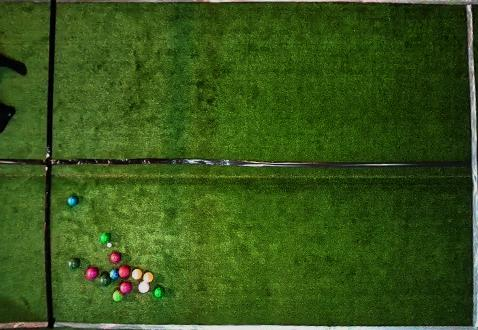blue: (67, 196, 79, 207), (109, 269, 119, 280)
green: (113, 290, 124, 302), (68, 258, 80, 269), (100, 273, 111, 285), (154, 287, 165, 298), (101, 233, 111, 243)
red: (119, 281, 132, 294), (86, 267, 99, 279), (138, 281, 150, 293), (118, 266, 130, 278), (110, 252, 121, 263)
vline: (1, 0, 57, 329), (464, 0, 477, 330)
white: (107, 243, 112, 247)
yellow: (132, 269, 142, 280), (143, 272, 153, 282)
